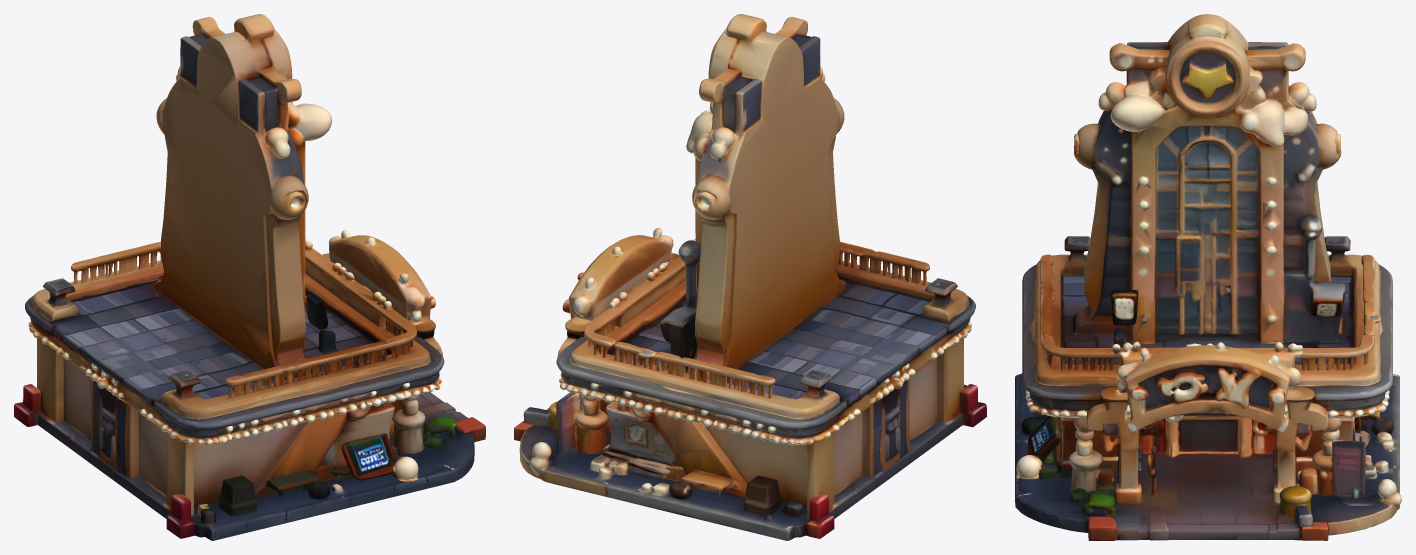
The model's file is building-casino.glb.
3 renders of one model, left to right at view 1: azimuth 30°, elevation 25°; view 2: azimuth 150°, elevation 25°; view 3: azimuth 270°, elevation 25°, orthographic. The views are drawn at different scales.
Parts seen in each view (by area): view 1: tripo_node_90661c57-8fd0-489b-95d4-b7c8a9025dff; view 2: tripo_node_90661c57-8fd0-489b-95d4-b7c8a9025dff; view 3: tripo_node_90661c57-8fd0-489b-95d4-b7c8a9025dff.
Part boxes in pixels (x1,y1,x2,y2): tripo_node_90661c57-8fd0-489b-95d4-b7c8a9025dff: [14, 14, 485, 540]; tripo_node_90661c57-8fd0-489b-95d4-b7c8a9025dff: [514, 14, 986, 540]; tripo_node_90661c57-8fd0-489b-95d4-b7c8a9025dff: [1015, 14, 1401, 540].
Size of the model in its own units: 9.25 by 12 by 9.04.
Materials: 1 (1 with a texture image).
